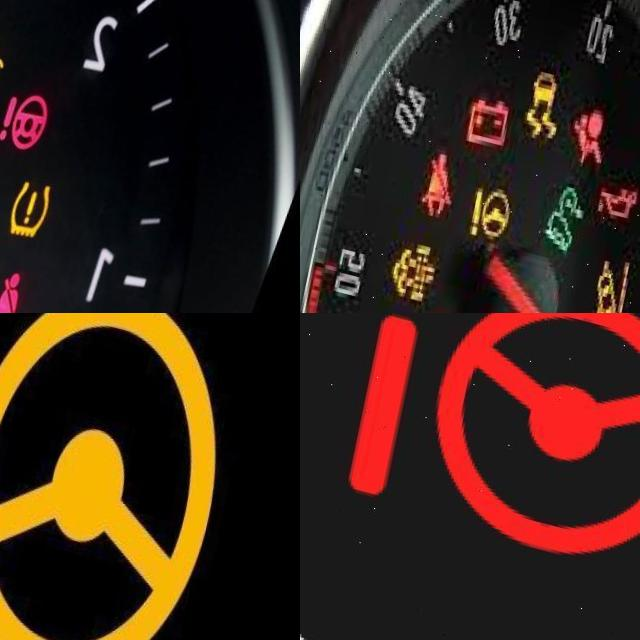Electronic Power Steering: (0, 313, 248, 640), (4, 70, 65, 141)
Electronic Power Steering Warning: (362, 313, 640, 558), (475, 167, 529, 229)
Seat Belt: (0, 249, 49, 313), (433, 133, 468, 203)
